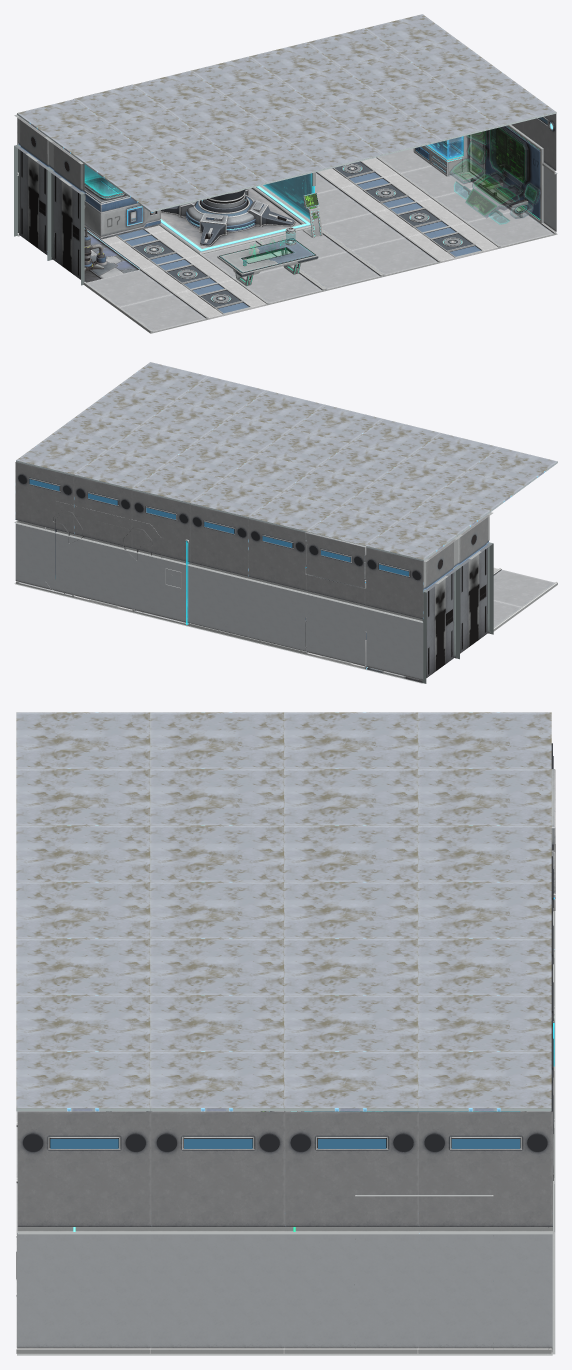
The model's file is sci-fi_lab.glb.
3 renders of one model, top to bottom at view 1: azimuth 30°, elevation 25°; view 2: azimuth 150°, elevation 25°; view 3: azimuth 270°, elevation 25°, orthographic. The views are drawn at different scales.
Parts seen in each view (by area): view 1: Object_15, Object_29, Object_4, Object_8, Object_3, Object_2, Object_11, Object_18, Object_12, Object_14, Object_5, Object_16 (+7 smaller); view 2: Object_15, Object_27, Object_30, Object_8, Object_29, Object_5, Object_18, Object_9, Object_12, Object_4; view 3: Object_15, Object_28, Object_30, Object_29, Object_27.
Boxes of the visible parts, x1=… form: Object_15: x1=17, y1=14, x2=556, y2=212; Object_29: x1=83, y1=148, x2=556, y2=333; Object_4: x1=87, y1=157, x2=498, y2=319; Object_8: x1=14, y1=144, x2=140, y2=285; Object_3: x1=449, y1=127, x2=540, y2=224; Object_2: x1=470, y1=125, x2=543, y2=223; Object_11: x1=161, y1=189, x2=294, y2=246; Object_18: x1=73, y1=84, x2=160, y2=239; Object_12: x1=159, y1=186, x2=310, y2=254; Object_14: x1=217, y1=238, x2=318, y2=286; Object_5: x1=14, y1=114, x2=85, y2=193; Object_16: x1=413, y1=134, x2=472, y2=176; Object_15: x1=16, y1=362, x2=557, y2=561; Object_27: x1=15, y1=462, x2=423, y2=622; Object_30: x1=14, y1=524, x2=423, y2=683; Object_8: x1=365, y1=542, x2=493, y2=683; Object_29: x1=16, y1=568, x2=557, y2=632; Object_5: x1=423, y1=512, x2=492, y2=590; Object_18: x1=305, y1=531, x2=366, y2=666; Object_9: x1=45, y1=503, x2=181, y2=612; Object_12: x1=190, y1=623, x2=307, y2=654; Object_4: x1=74, y1=567, x2=498, y2=668; Object_15: x1=16, y1=712, x2=551, y2=1111; Object_28: x1=17, y1=1111, x2=552, y2=1234; Object_30: x1=17, y1=1232, x2=555, y2=1355; Object_29: x1=16, y1=1111, x2=551, y2=1353; Object_27: x1=547, y1=743, x2=555, y2=1232.
Bounding box in the file's own units: 14.16 × 4.05 × 8.06.
28 materials, 28 textured.
